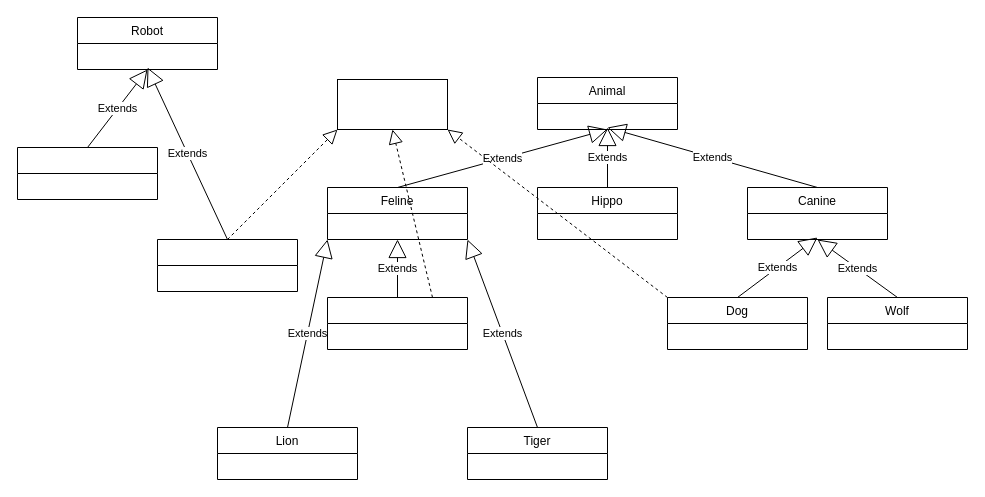
Some shapes in this 985 by 497 pixel diagram are drawn without their labels. The shapes that lost their labels are listed below. From the top down, each one's box as (x1, y1, x2, y2) in pixels, then its label:
(336, 78, 448, 130): «interface» Pet
(16, 146, 158, 200): Agent
(156, 238, 298, 292): Robot Dog
(326, 296, 468, 350): Cat
